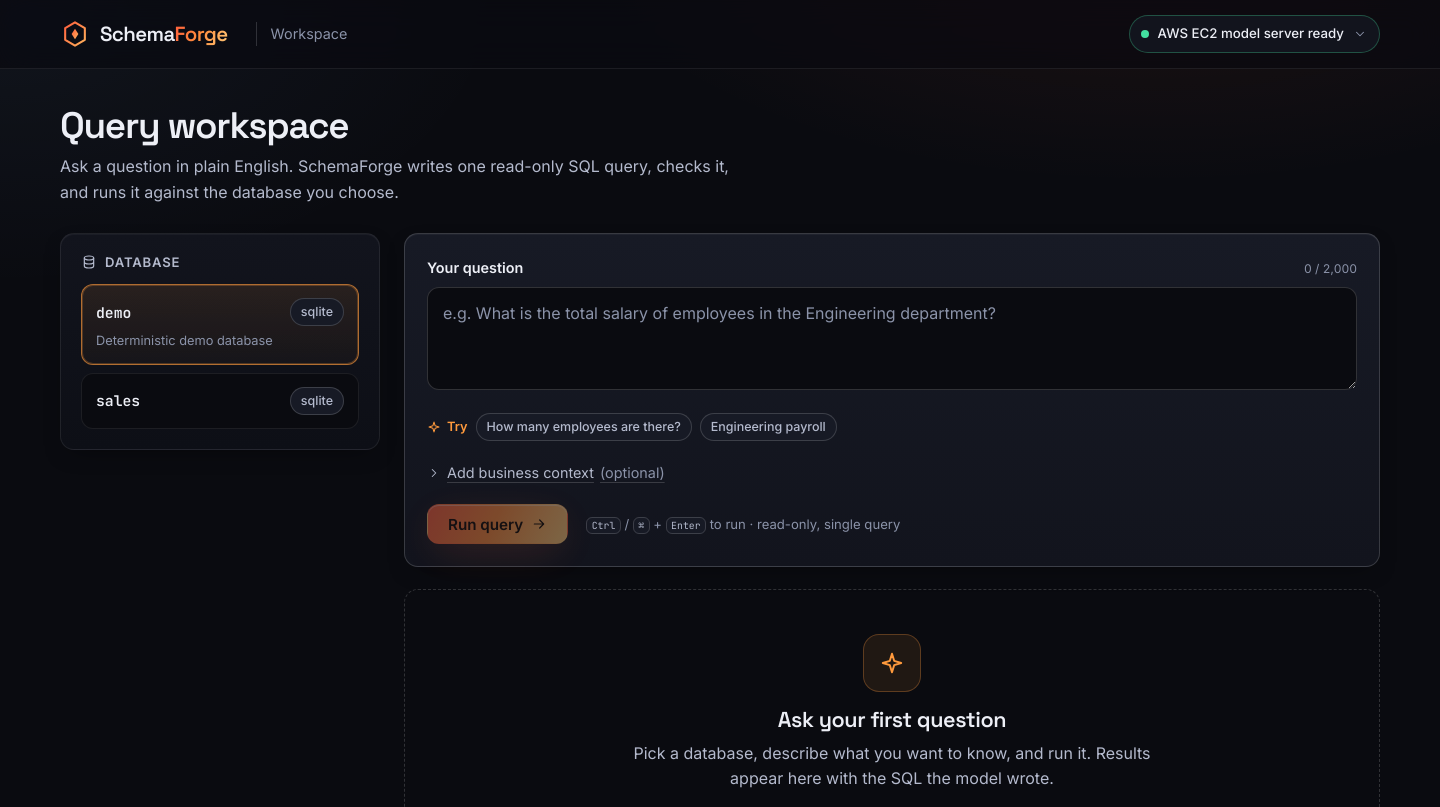
Test: Workspace: running a query › submits the question, then shows SQL, safety state, the result table and metadata
Expected: the radio button labelled "demo sqlite Deterministic demo database" is shown, [81, 284, 359, 365]
Type "How many employees are there?" into the text box labelled "Your question". click: (892, 339)
box: [427, 287, 1357, 390]
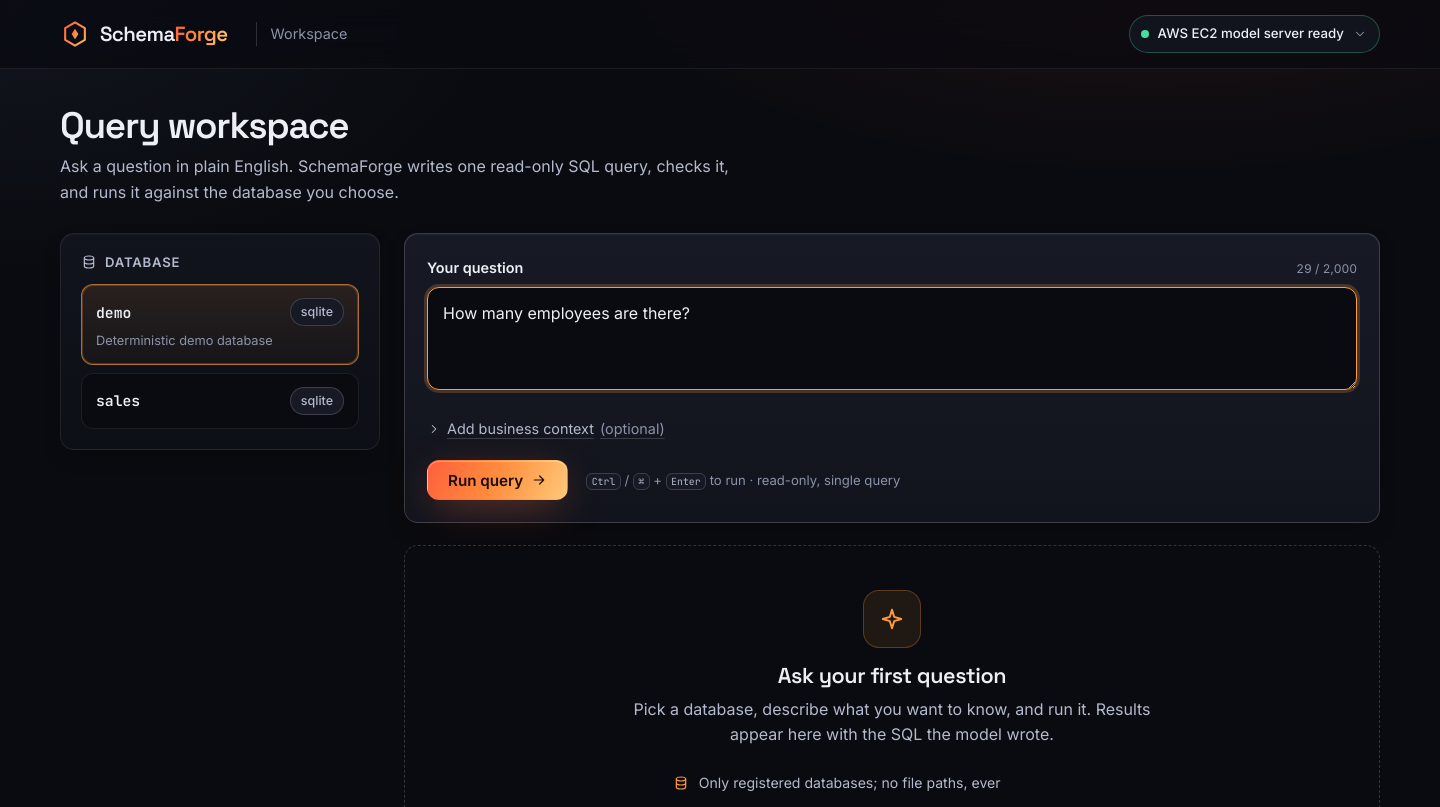
Click the button "Run query". click: (498, 480)
box: [427, 460, 568, 500]
(page scrolled)
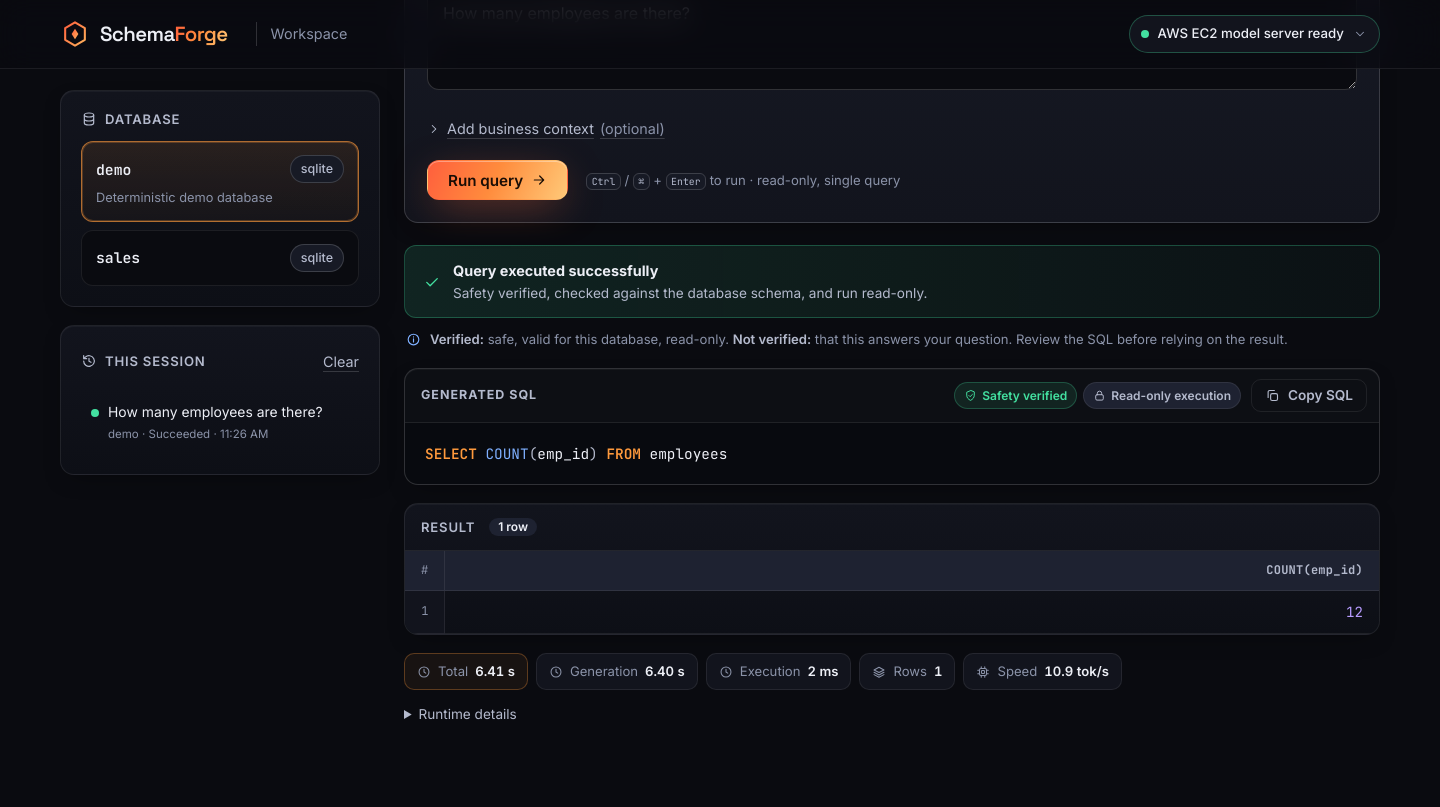
Now the element named "Generated SQL" reads "SELECT COUNT(emp_id) FROM employees", box [425, 444, 727, 463]
Now the text "Safety verified" is shown, box [954, 382, 1077, 409]
Now the text "Read-only execution" is shown, box [1083, 382, 1241, 409]
